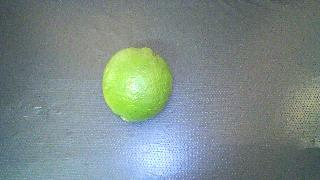EXPORTACION: (102, 47, 172, 122)
